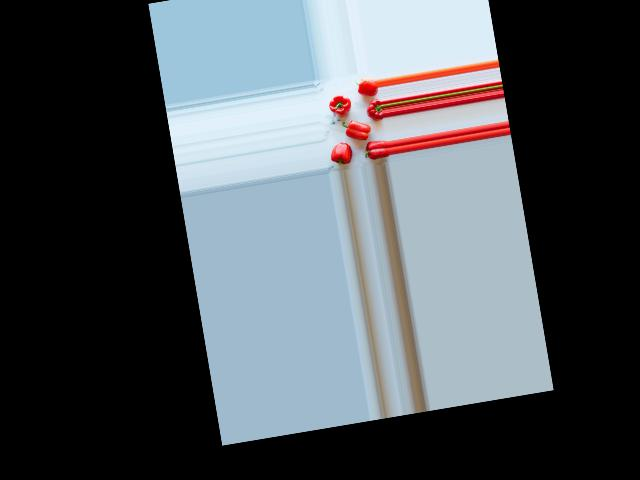bell_pepper: (364, 99, 383, 122)
